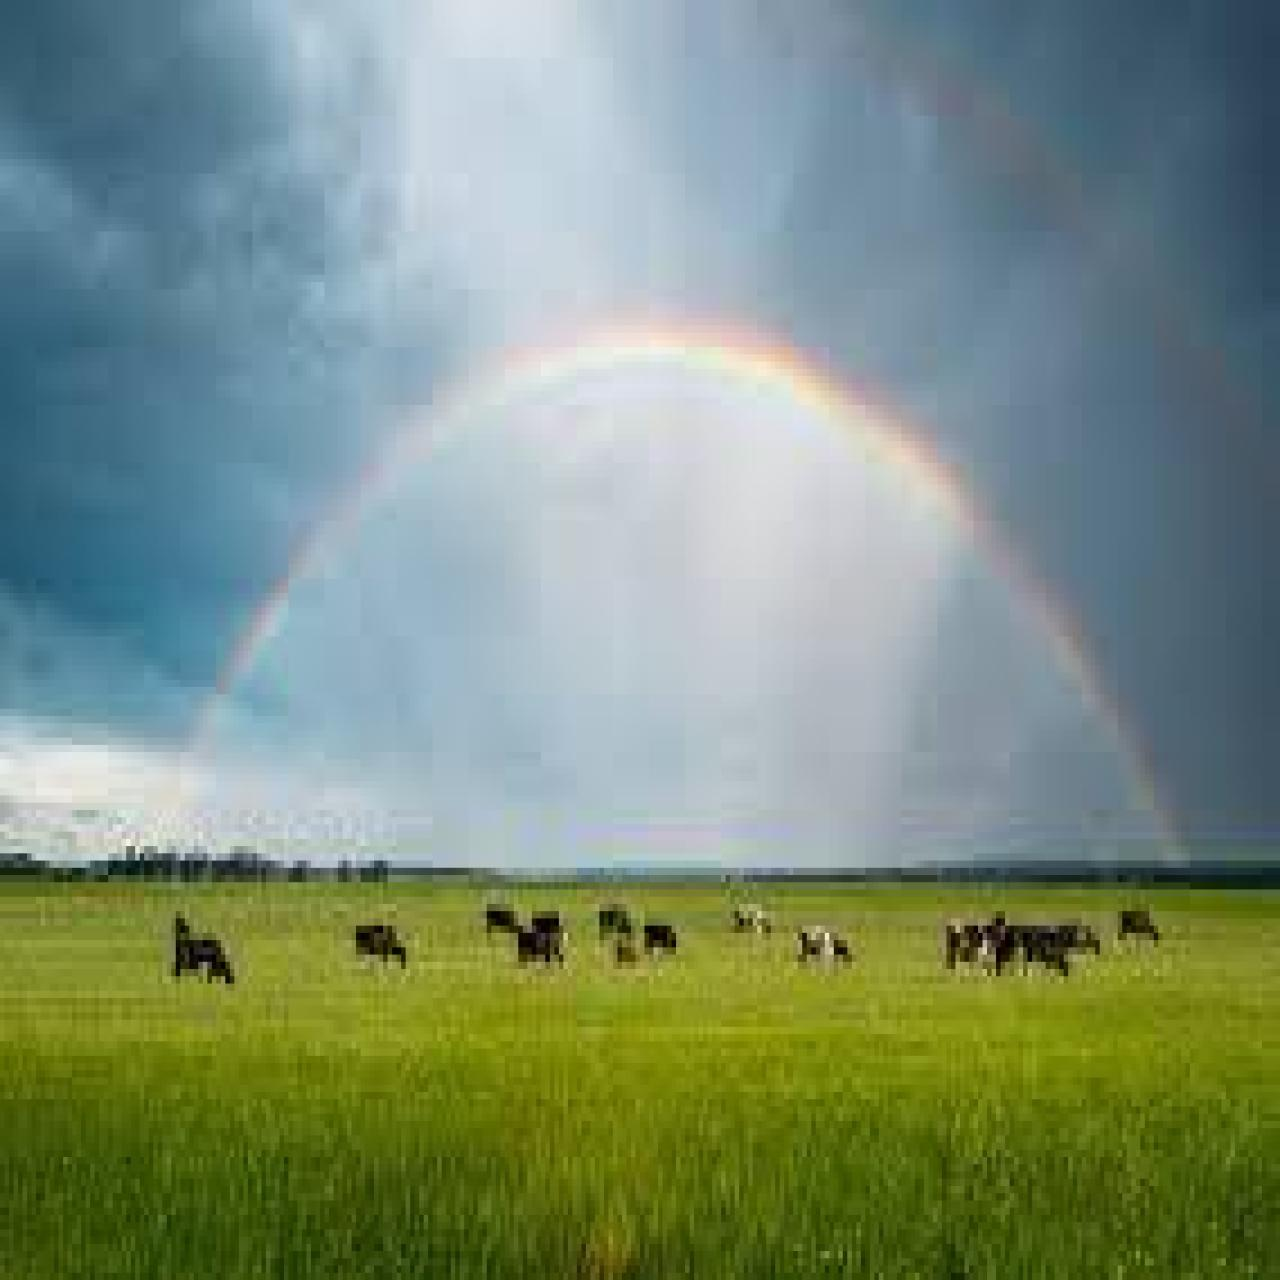cow: (166, 914, 244, 994), (994, 926, 1088, 990), (345, 922, 417, 980), (946, 904, 1001, 976), (728, 897, 787, 947), (789, 926, 856, 969), (628, 914, 687, 959), (1111, 900, 1170, 944), (588, 897, 638, 947), (510, 926, 572, 961), (527, 890, 567, 940), (486, 900, 523, 944), (608, 940, 648, 976)
